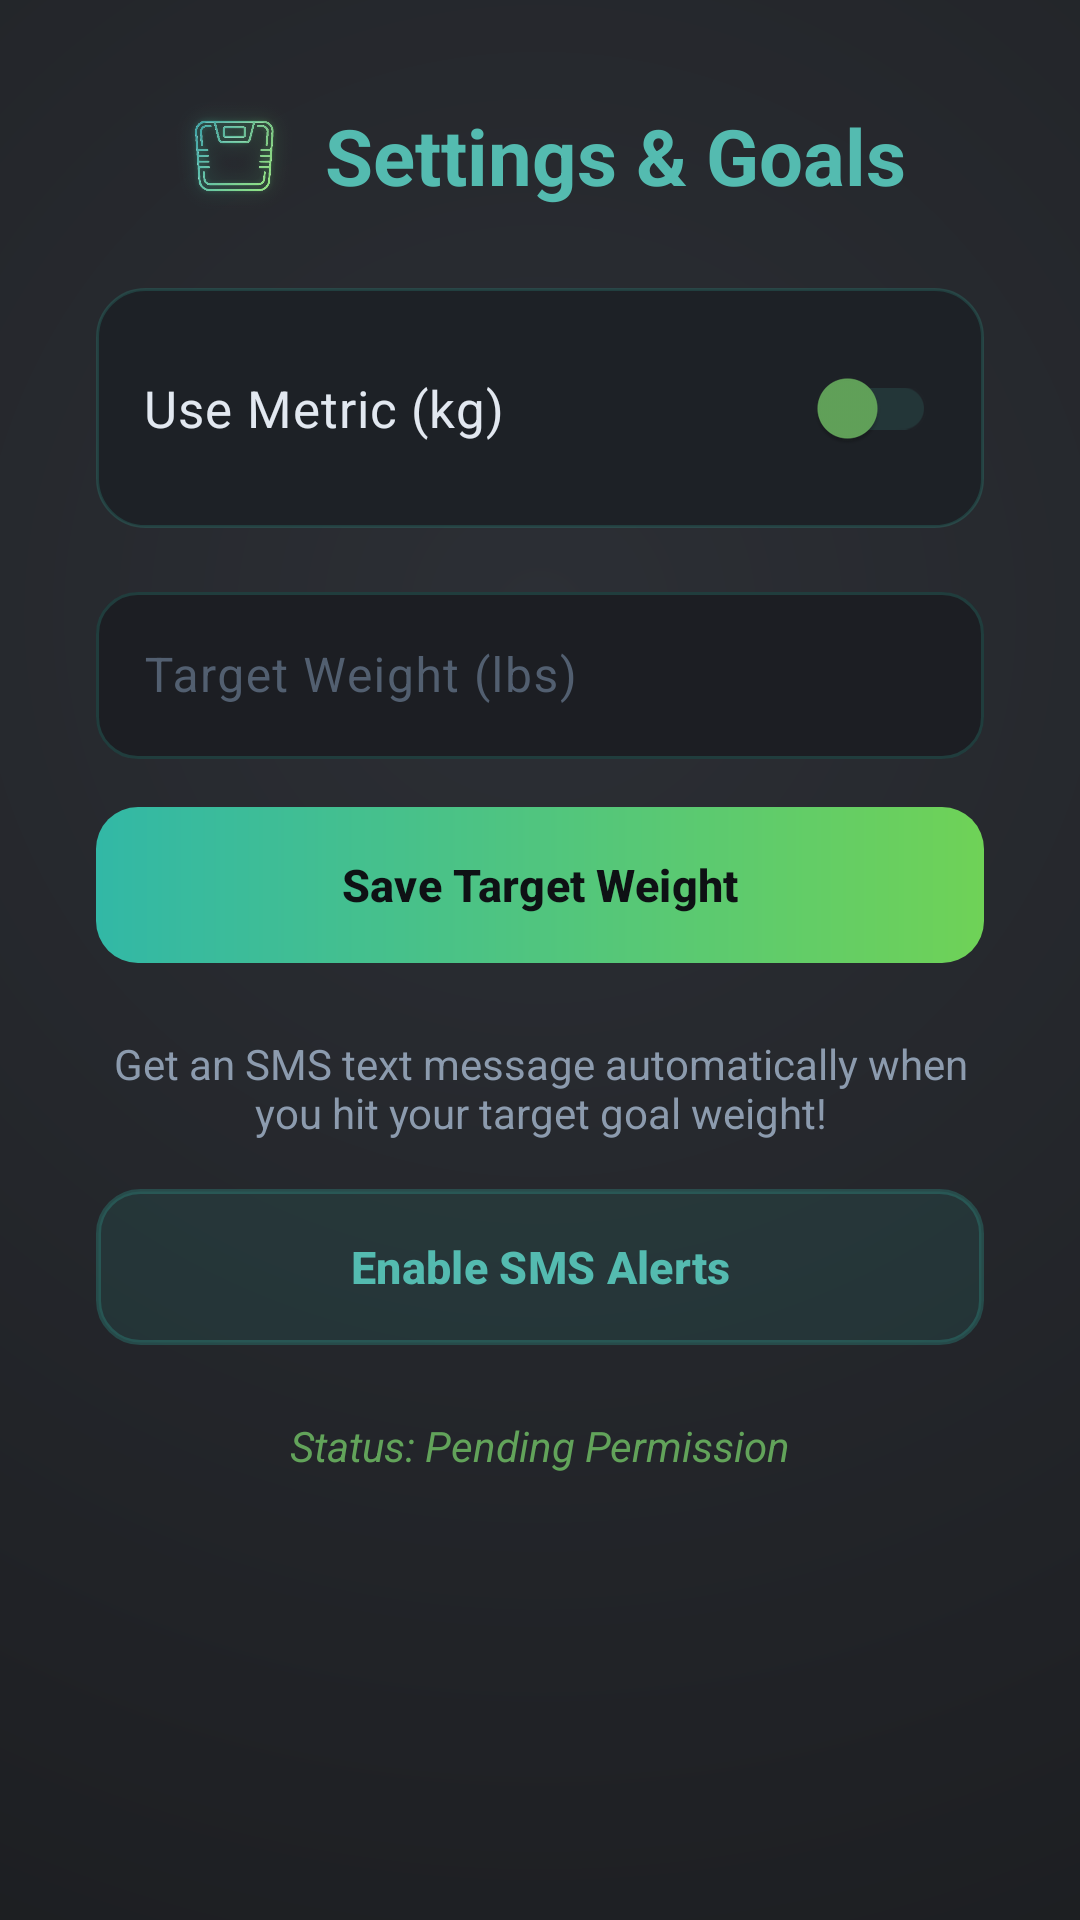

Point at icon controls on the screen. Image size 1080px x 1920px, points as [x,y].
brand scale glow: [235,156]
